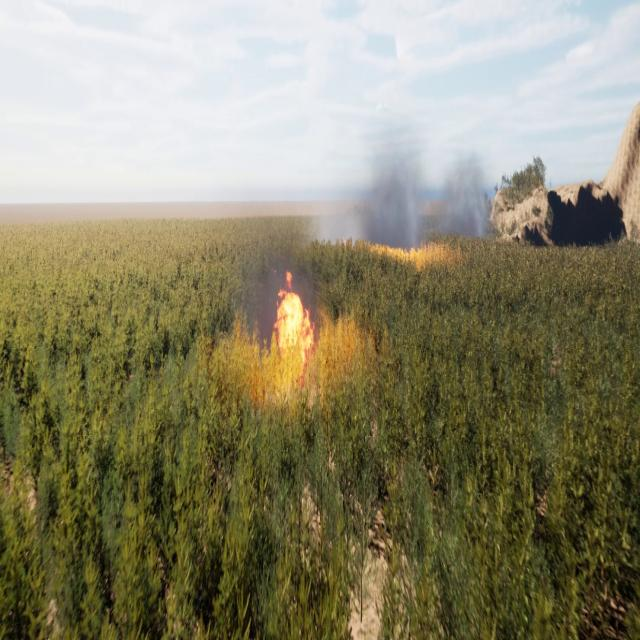fire: (273, 267, 322, 380), (368, 238, 457, 264)
smoke: (314, 113, 495, 237), (241, 251, 319, 347)
